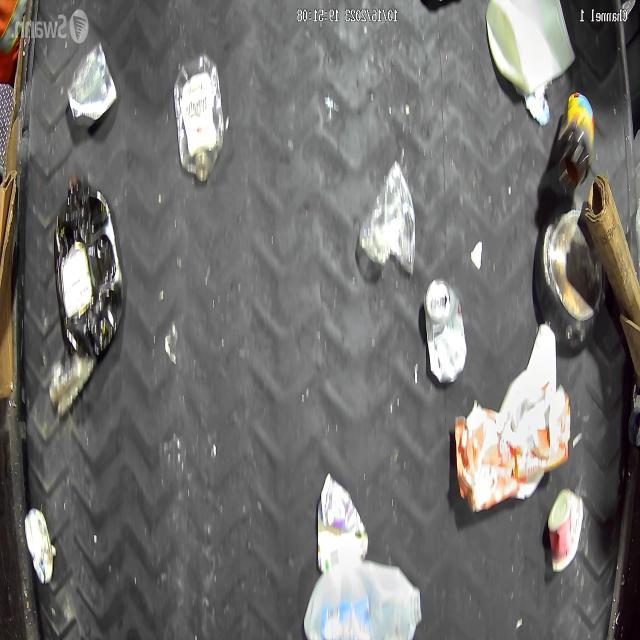can: (421, 281, 466, 394), (67, 38, 119, 126)
milk_jug: (299, 559, 423, 640)
